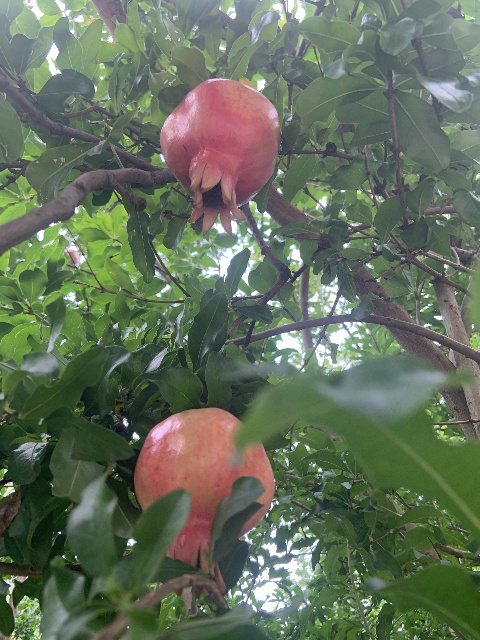ripe: (133, 407, 274, 593), (160, 79, 280, 236)
